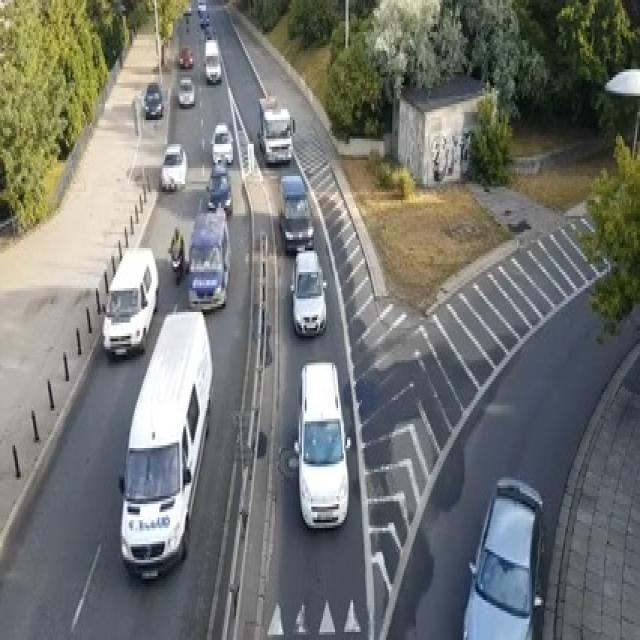bus: (118, 307, 214, 581)
car: (462, 475, 546, 637), (293, 360, 350, 531), (100, 245, 158, 358), (186, 206, 230, 310), (290, 248, 327, 336), (278, 174, 314, 254), (257, 96, 294, 163), (204, 163, 232, 213), (160, 144, 187, 192), (210, 122, 233, 162), (141, 83, 164, 117), (204, 37, 221, 83), (178, 75, 195, 106), (179, 45, 194, 67), (198, 10, 209, 27), (197, 0, 206, 13), (183, 3, 191, 13)
